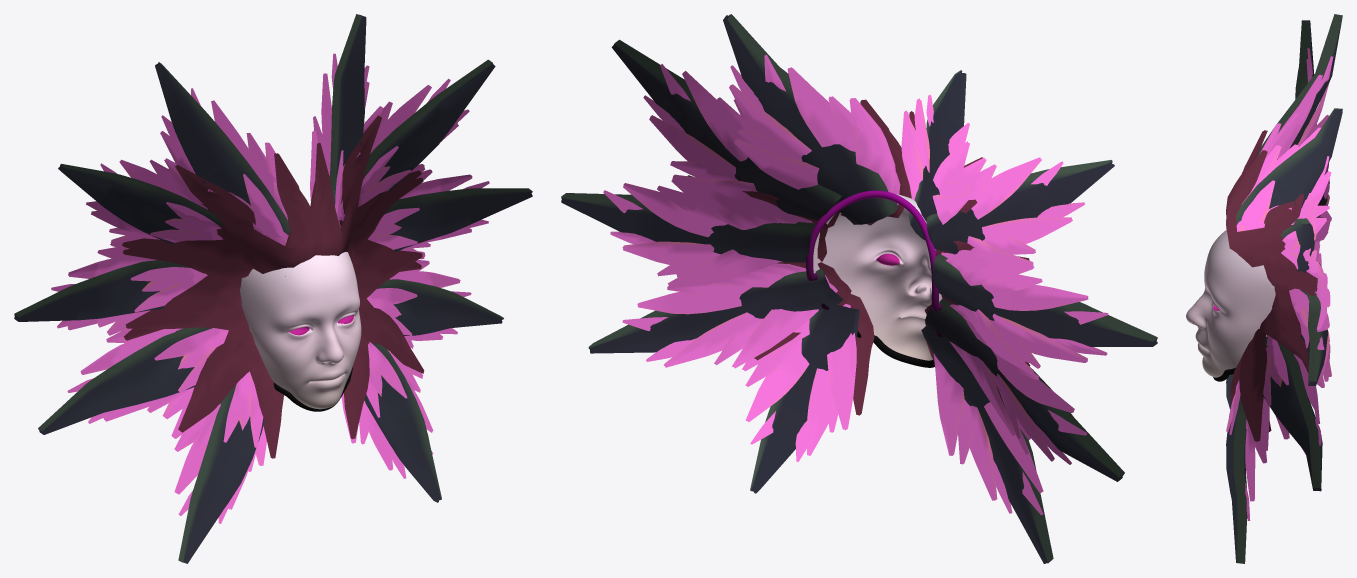
Rendered from Mask_Normal4.glb.
3 renders of one model, left to right at view 1: azimuth 30°, elevation 25°; view 2: azimuth 150°, elevation 25°; view 3: azimuth 270°, elevation 25°, orthographic. The views are drawn at different scales.
Parts seen in each view (by area): view 1: BézierCurve.001, Female Average Head; view 2: BézierCurve.001, Female Average Head; view 3: BézierCurve.001, Female Average Head.
Boxes of the visible parts, x1,y1,x2,y2 form: BézierCurve.001: [14, 14, 532, 563]; Female Average Head: [240, 252, 361, 411]; BézierCurve.001: [561, 14, 1157, 563]; Female Average Head: [806, 190, 942, 367]; BézierCurve.001: [1226, 14, 1342, 563]; Female Average Head: [1186, 230, 1275, 381].
Size of the model in its own units: 0.6544 by 0.5562 by 0.1782.
Materials: 2 (2 with a texture image).
